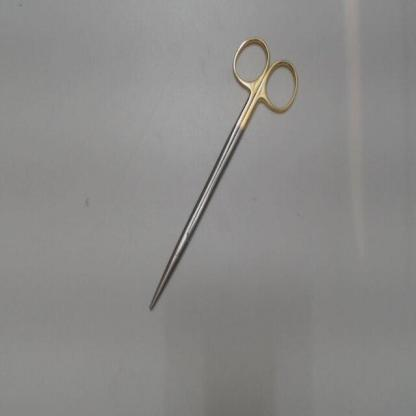7 Metzenbaum Scissors: (145, 33, 302, 319)
